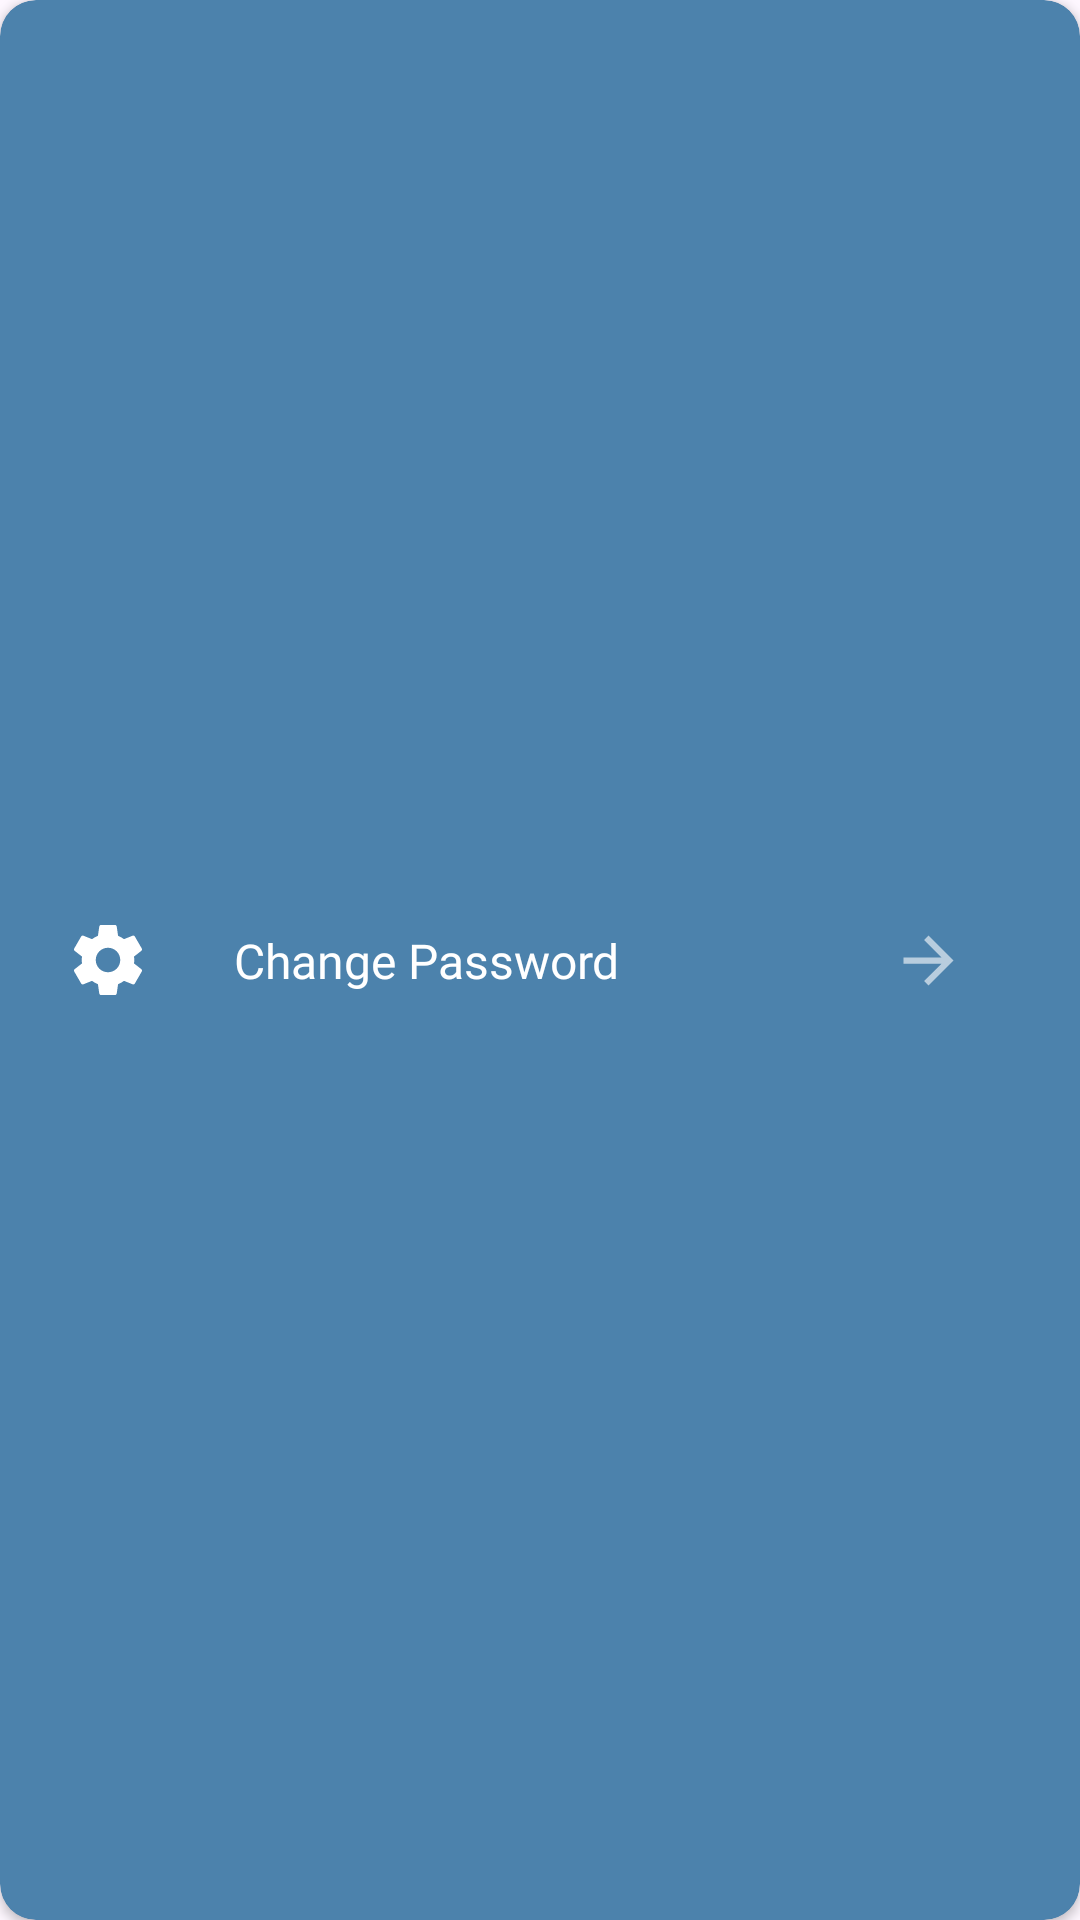

Locate icon controls on the screen. Image size 1080 × 1920, boxes as bbox(x1, y1, x2, y2).
arrow forward: bbox(903, 935, 954, 986)
settings: bbox(74, 925, 142, 995)
